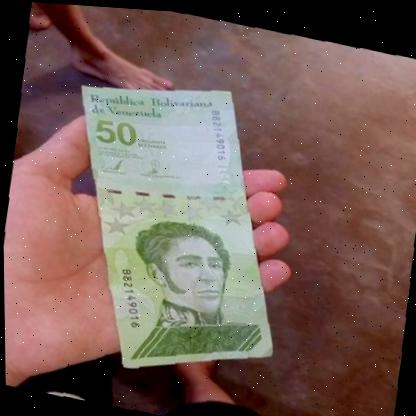vef_front: (37, 53, 311, 399)
